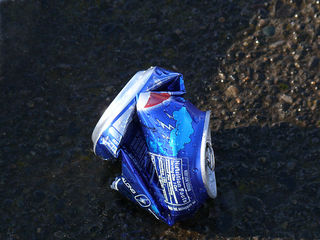can: (90, 65, 218, 226)
